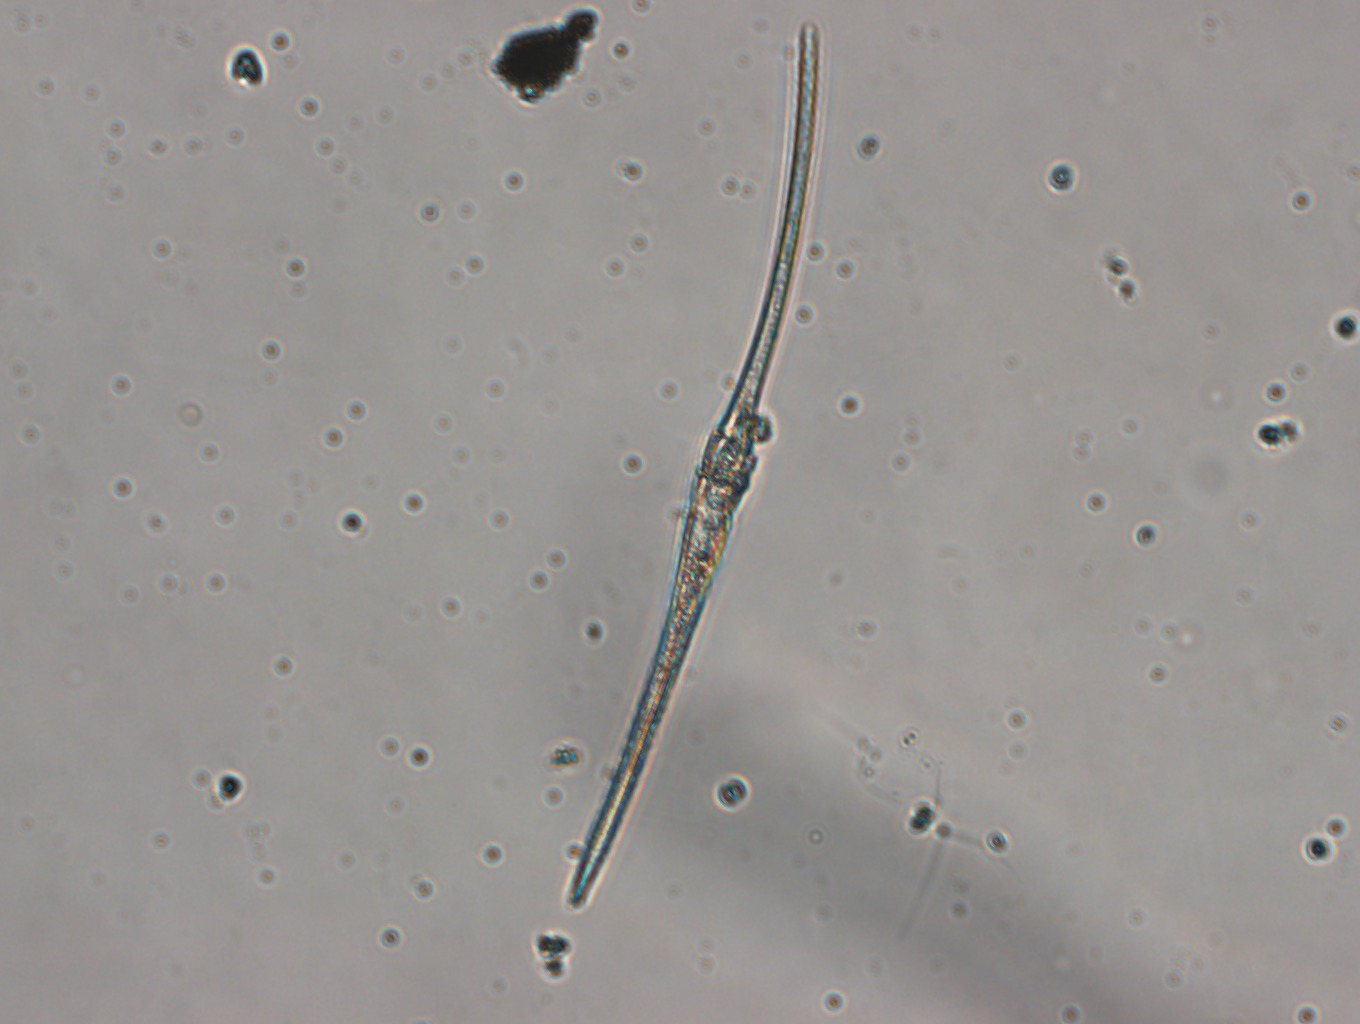ceratium fusus: (559, 15, 826, 918)
